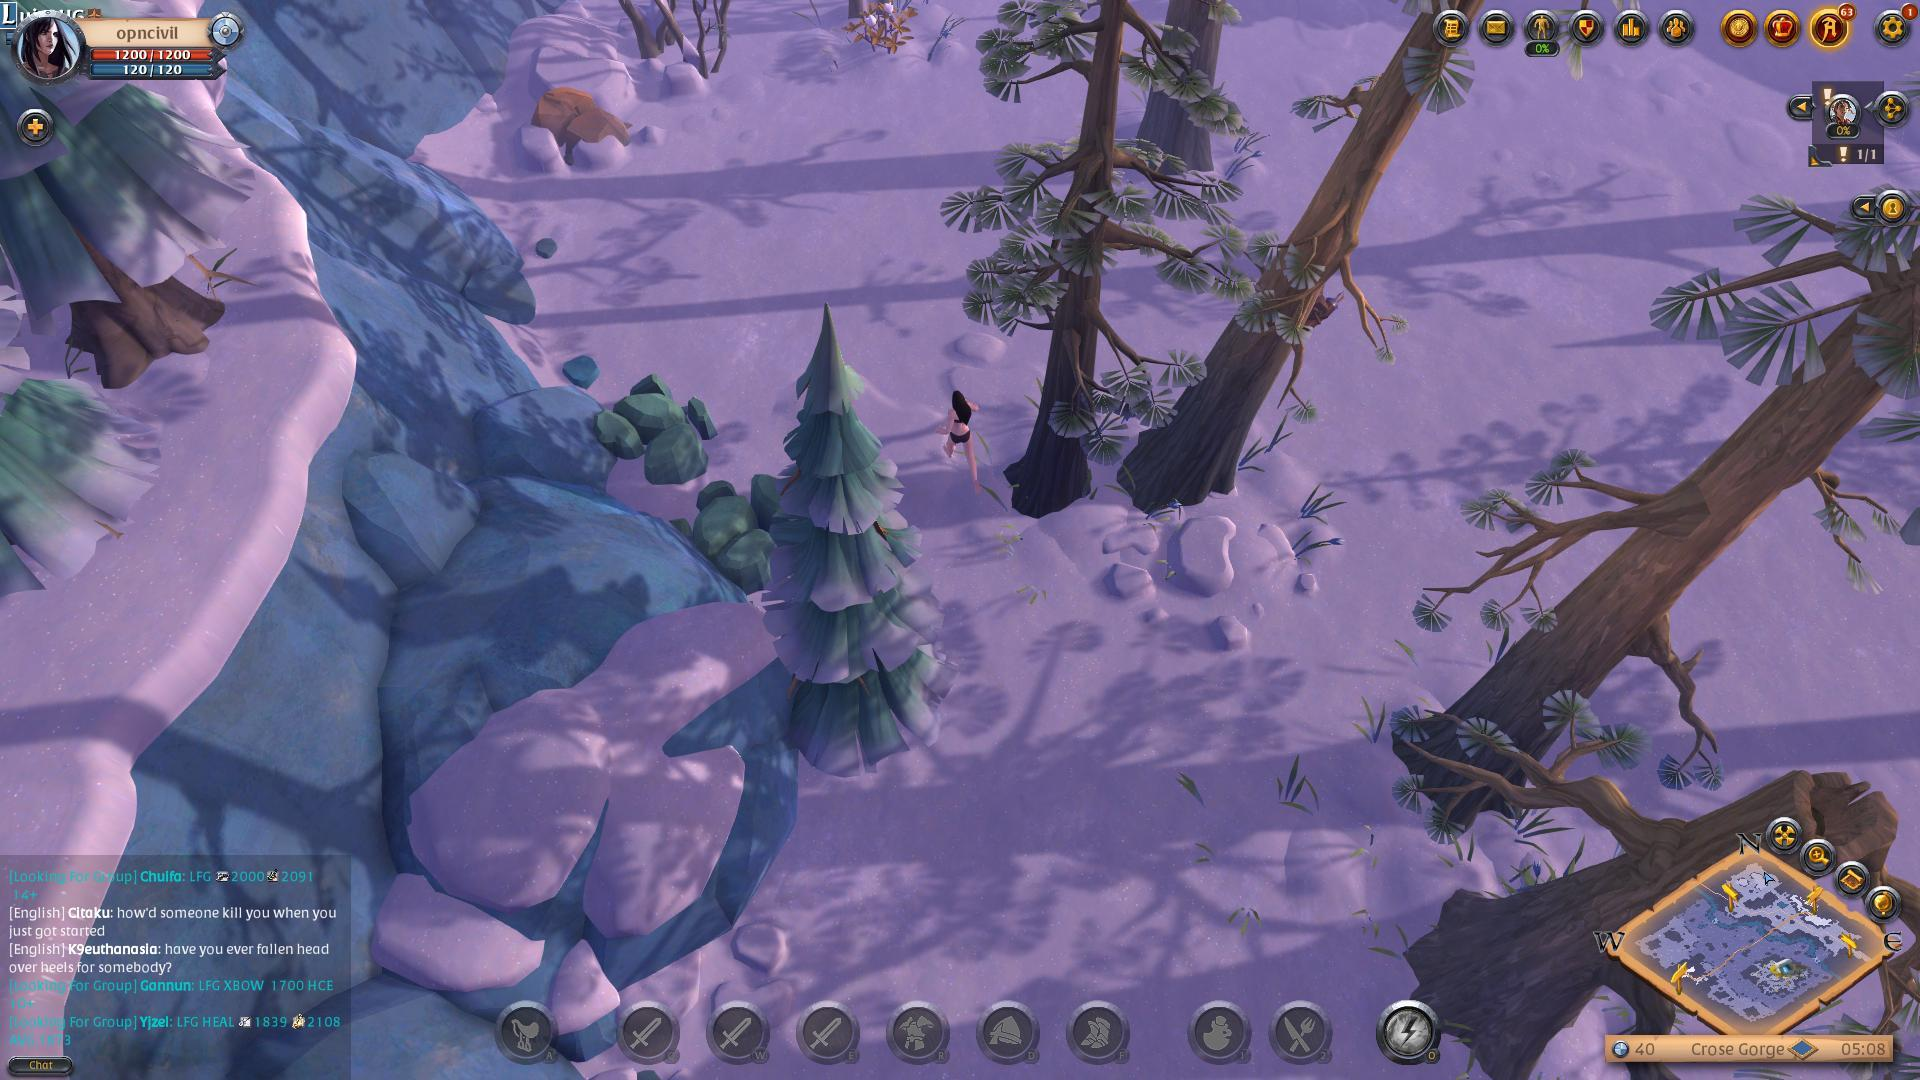cotton: (839, 0, 923, 70)
limestone: (522, 79, 641, 173)
sandstone: (585, 371, 719, 483), (687, 467, 778, 580)
